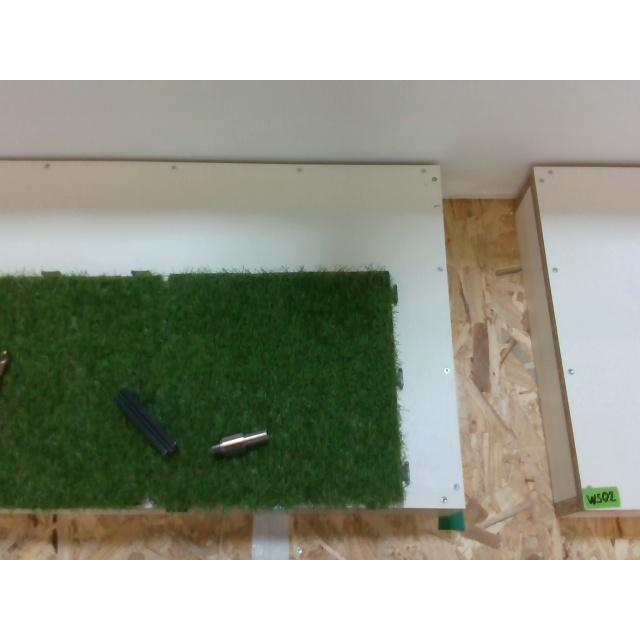Axis2: (212, 430, 268, 458)
F20_20_B: (114, 388, 176, 452)
